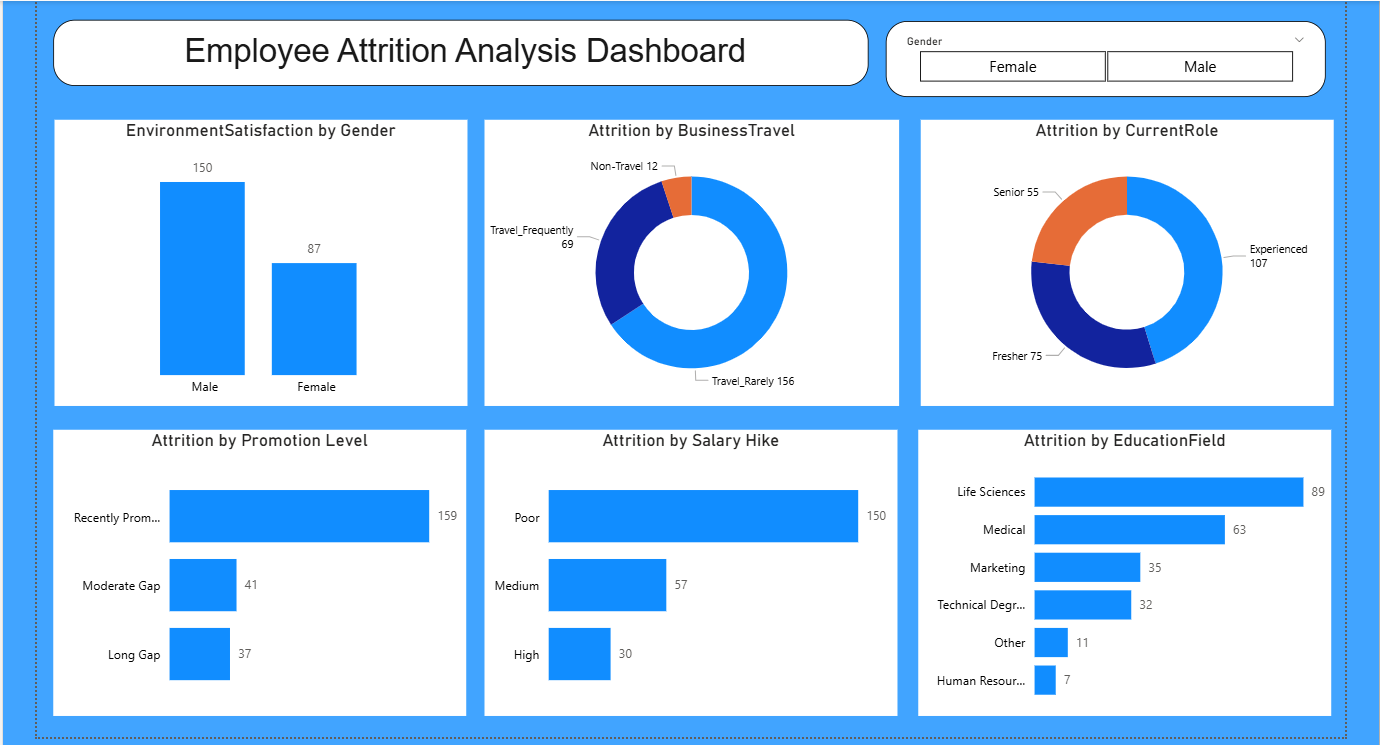

This screenshot's page, from the dashboard's own definition file:
{"tool":"powerbi","page":{"name":"Attrition Dashboard 2","canvas":[1280,720],"ordinal":1},"visuals":[{"type":"textbox","box":[16.5,17.8,797.3,65],"z":0},{"type":"columnChart","title":"EnvironmentSatisfaction by Gender","fields":{"Category":["EmployeeData.Gender"],"Y":["CountNonNull(EmployeeData.EnvironmentSatisfaction)"]},"box":[17.3,116,403.7,280],"z":1000},{"type":"donutChart","title":"Attrition by BusinessTravel","fields":{"Category":["EmployeeData.BusinessTravel"],"Y":["CountNonNull(EmployeeData.Attrition)"]},"box":[438.3,116,405.3,280],"z":2000},{"type":"donutChart","title":"Attrition by CurrentRole","fields":{"Category":["EmployeeData.CurrentRole"],"Y":["CountNonNull(EmployeeData.EmployeeNumber)"]},"box":[864,116,403.7,279.6],"z":3000},{"type":"barChart","title":"Attrition by Promotion Level","fields":{"Category":["EmployeeData.PromotionLevel"],"Y":["CountNonNull(EmployeeData.Attrition)"]},"box":[15.7,418.9,403.7,280],"z":4000},{"type":"barChart","title":"Attrition by EducationField","fields":{"Category":["EmployeeData.EducationField"],"Y":["CountNonNull(EmployeeData.Attrition)"]},"box":[862.4,418.9,403.7,280],"z":5000},{"type":"barChart","title":"Attrition by Salary Hike","fields":{"Category":["EmployeeData.SalaryHikeCategory"],"Y":["CountNonNull(EmployeeData.Attrition)"]},"box":[438.3,418.9,403.7,280],"z":6000},{"type":"slicer","fields":{"Values":["EmployeeData.Gender"]},"box":[830.2,19.2,430,74],"z":7000}]}

Visuals, with their boxes in screenshot pixels (x1, y1, x2, y2):
textbox: (53,18,865,84)
"EnvironmentSatisfaction by Gender" columnChart: (54,118,465,403)
"Attrition by BusinessTravel" donutChart: (483,118,896,403)
"Attrition by CurrentRole" donutChart: (916,118,1328,403)
"Attrition by Promotion Level" barChart: (52,427,463,712)
"Attrition by EducationField" barChart: (915,427,1326,712)
"Attrition by Salary Hike" barChart: (483,427,894,712)
slicer - EmployeeData.Gender: (882,20,1320,95)
